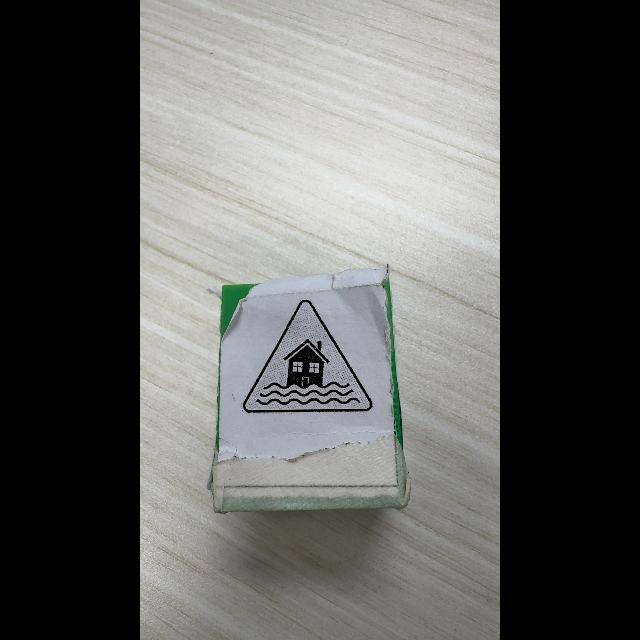Tsunami: (243, 300, 372, 413)
